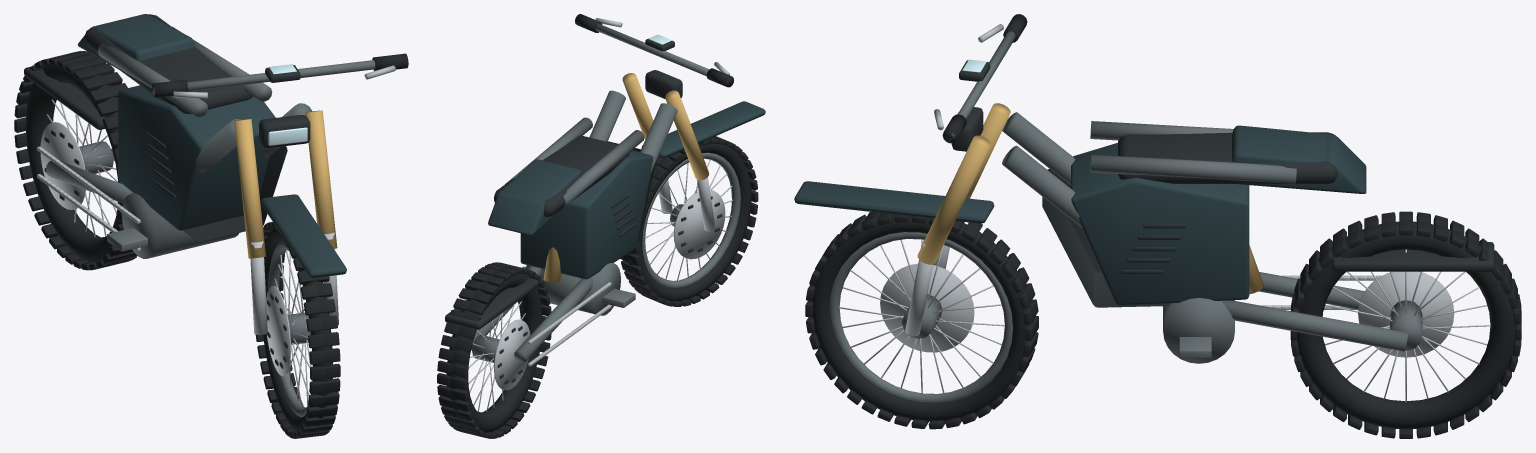
Rendered from Ebike_sr.glb.
The picture shows the model from 3 angles, left to right: view 1: azimuth 30°, elevation 25°; view 2: azimuth 150°, elevation 25°; view 3: azimuth 270°, elevation 25°; orthographic projection. The views are drawn at different scales.
Visible parts, largest first — view 1: Sculpted fairing, Tire.001, Box swingarm, Tire, Battery case, Inverted fork upper, Front mudguard, Steel spoke.024, Steel spoke, Fork stanchion, Handlebar, Rim (+5 smaller); view 2: Sculpted fairing, Tire.001, Box swingarm, Tire, Battery case, Steel spoke, Steel spoke.024, Rim, Inverted fork upper, Front mudguard, Fork stanchion, Display (+5 smaller); view 3: Sculpted fairing, Tire.001, Box swingarm, Tire, Battery case, Steel spoke, Steel spoke.024, Rim, Front mudguard, Inverted fork upper, Fork stanchion, Rim.001 (+3 smaller).
Part boxes in pixels (x1,y1,x2,y2): Sculpted fairing: (78, 14, 275, 230); Tire.001: (14, 51, 137, 270); Box swingarm: (46, 26, 312, 258); Tire: (255, 222, 340, 438); Battery case: (24, 14, 287, 242); Inverted fork upper: (234, 110, 337, 258); Front mudguard: (260, 194, 346, 277); Steel spoke.024: (40, 99, 117, 237); Steel spoke: (266, 250, 311, 407); Fork stanchion: (173, 65, 395, 334); Handlebar: (153, 60, 375, 95); Rim: (268, 241, 310, 417); Sculpted fairing: (488, 150, 653, 279); Tire.001: (437, 262, 551, 438); Box swingarm: (471, 90, 677, 362); Tire: (620, 136, 758, 306); Battery case: (445, 135, 654, 329); Steel spoke: (645, 159, 733, 280); Steel spoke.024: (468, 301, 530, 412); Rim: (642, 152, 740, 288); Inverted fork upper: (622, 73, 709, 180); Front mudguard: (641, 101, 765, 158); Fork stanchion: (595, 18, 729, 231); Display: (645, 39, 682, 99); Sculpted fairing: (1071, 125, 1366, 305); Tire.001: (1290, 211, 1521, 438); Box swingarm: (1002, 112, 1407, 363); Tire: (805, 212, 1038, 429); Battery case: (1042, 132, 1494, 307); Steel spoke: (839, 239, 1004, 394); Steel spoke.024: (1325, 249, 1490, 402); Rim: (829, 232, 1012, 404); Front mudguard: (794, 181, 994, 223); Inverted fork upper: (917, 103, 1010, 264); Fork stanchion: (905, 24, 1003, 336); Rim.001: (1390, 300, 1422, 350).
Bounding box in the file's own units: 0.7666 × 1.11 × 2.02.
